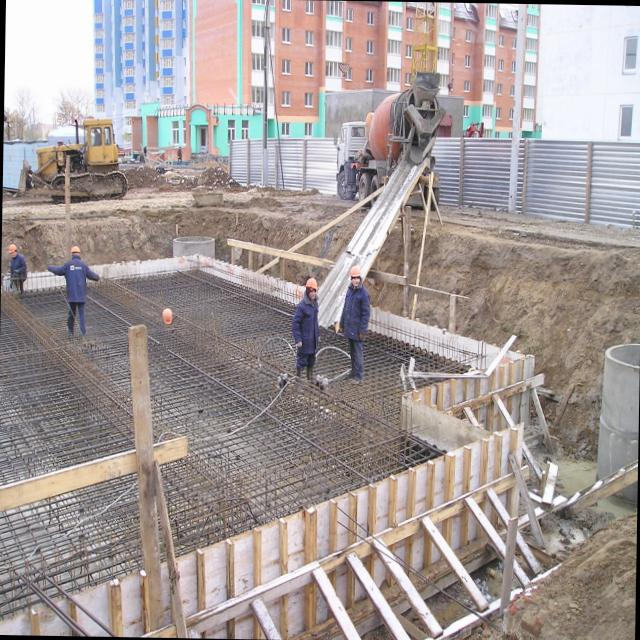Helmet: (305, 279, 319, 295), (350, 267, 362, 280), (71, 247, 82, 256), (9, 245, 18, 255)
Jacket: (163, 310, 172, 325)
NoJacket: (348, 285, 366, 338), (302, 299, 320, 350), (70, 258, 86, 300), (13, 255, 24, 278)
